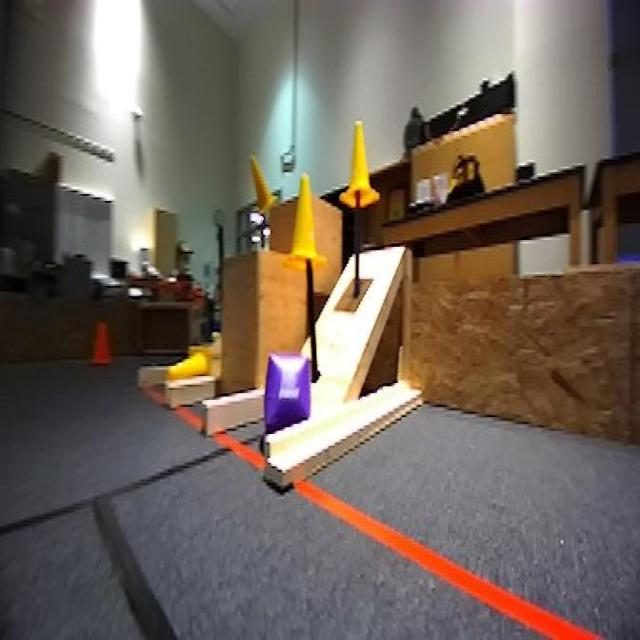frc_cone: (284, 172, 328, 276), (342, 118, 382, 211), (166, 339, 215, 383), (249, 155, 276, 218)
frc_cube: (260, 344, 315, 441)
